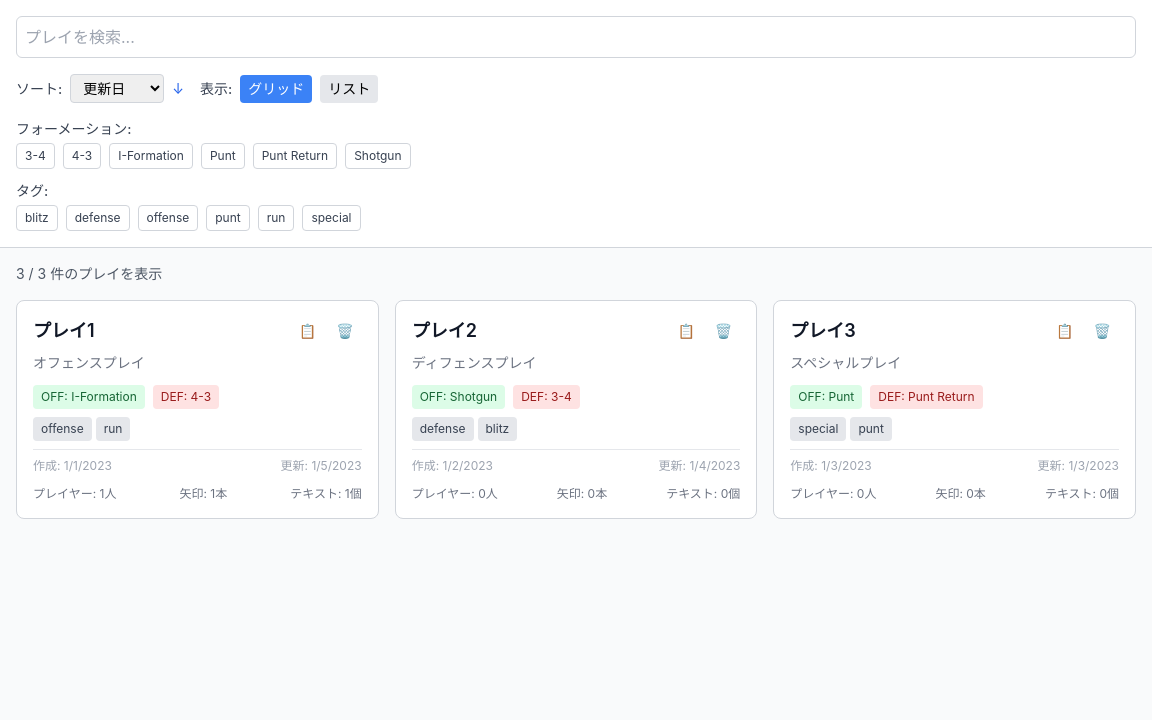
Test: PlayListView Component › フィルタリング機能 › すべてのフィルターをクリアできること
検索とフィルターを適用
Type "プレイ1" into the field with placeholder "プレイを検索..." at (576, 37), box 16,16 -> 1136,58
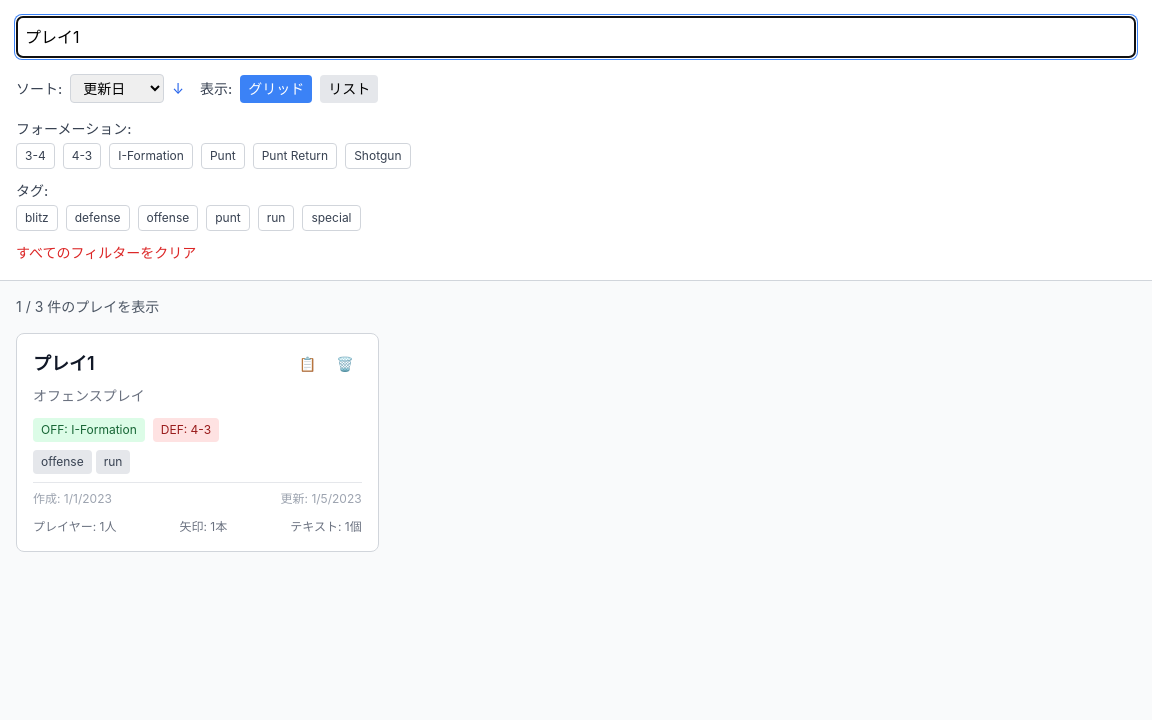
Click the button "offense" at (168, 218), box 138,205 -> 198,231
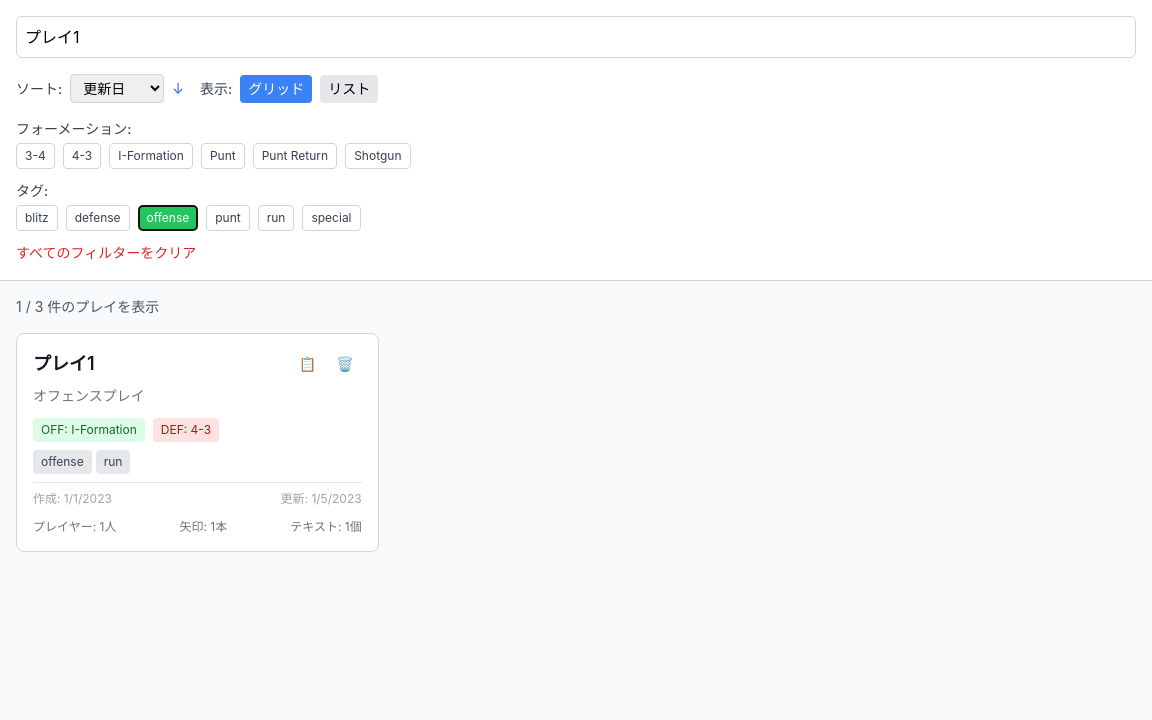
クリアボタンをクリック
Click the button "すべてのフィルターをクリア" at (106, 253), box 16,243 -> 196,263
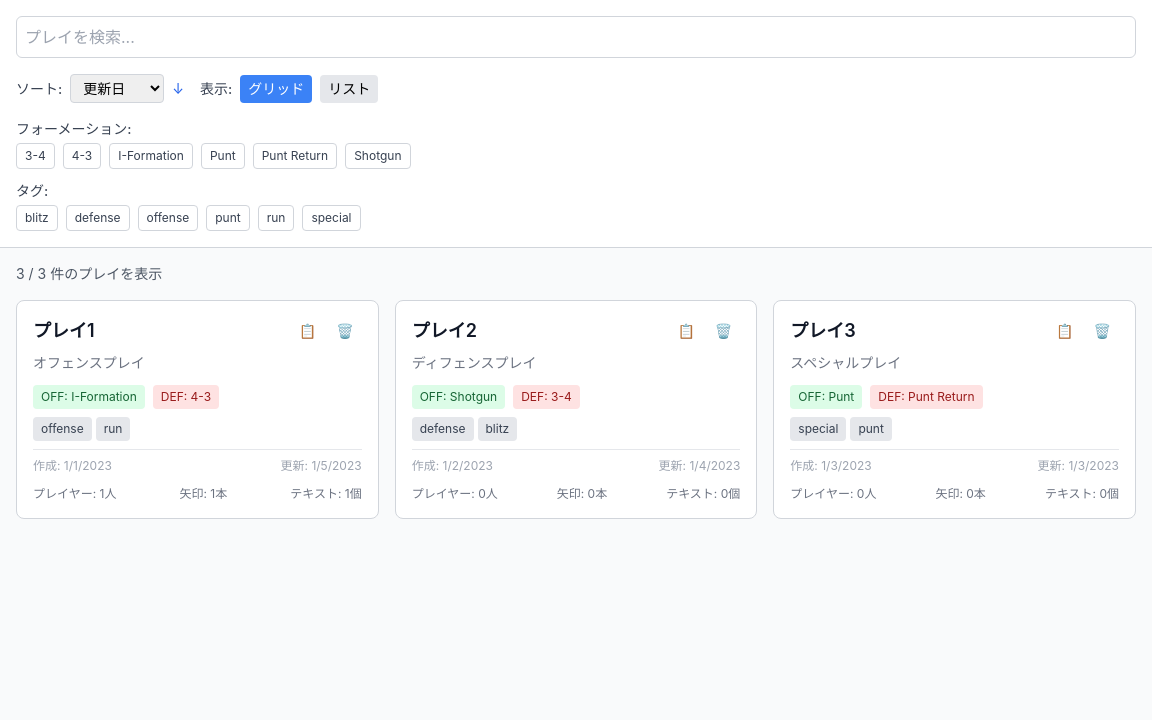
Expected: the heading "プレイ1" is shown, 33,317 -> 95,345
Expected: the heading "プレイ2" is shown, 412,317 -> 477,345
Expected: the heading "プレイ3" is shown, 790,317 -> 856,345
